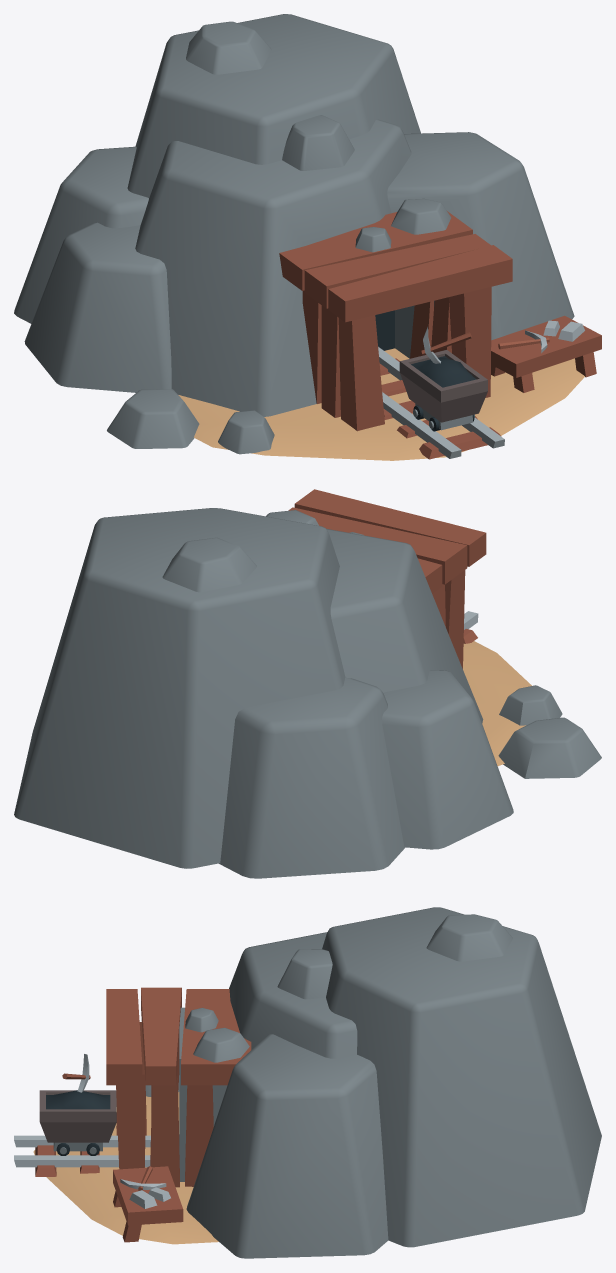
File: kaykit-mine.glb
3 renders of one model, top to bottom at view 1: azimuth 30°, elevation 25°; view 2: azimuth 150°, elevation 25°; view 3: azimuth 270°, elevation 25°, orthographic. The views are drawn at different scales.
Parts seen in each view (by area): view 1: mine; view 2: mine; view 3: mine.
Boxes of the visible parts, <box> form: mine: <box>14,14,601,460</box>; mine: <box>14,489,601,878</box>; mine: <box>14,907,601,1258</box>.
Bounding box in the file's own units: 1.61 × 0.8294 × 1.88.
Materials: 3 (3 with a texture image).
